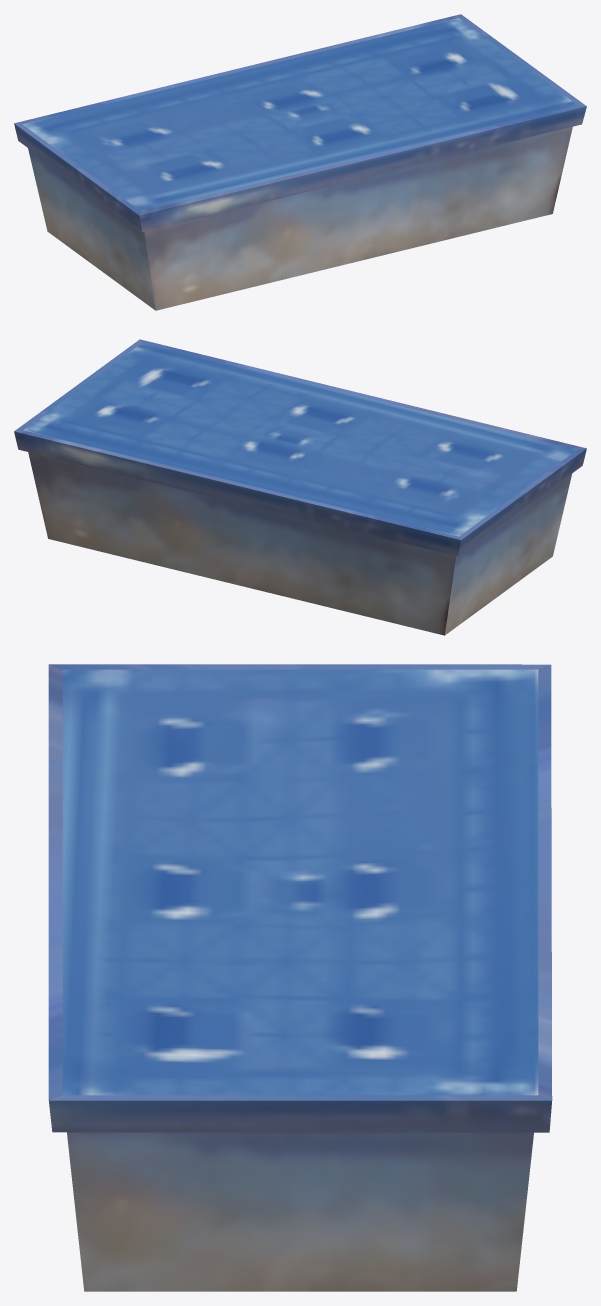
The model's file is meth_tupperware.FBX.
The picture shows the model from 3 angles, top to bottom: view 1: azimuth 30°, elevation 25°; view 2: azimuth 150°, elevation 25°; view 3: azimuth 270°, elevation 25°; orthographic projection. The views are drawn at different scales.
Visible parts, largest first — view 1: meth_tupperware; view 2: meth_tupperware; view 3: meth_tupperware.
Boxes of the visible parts, box(x1,y1,x2,y2) form: meth_tupperware: box(14, 14, 586, 310); meth_tupperware: box(14, 339, 586, 635); meth_tupperware: box(48, 664, 552, 1291).
Bounding box in the file's own units: 38.55 × 8.89 × 18.79.
